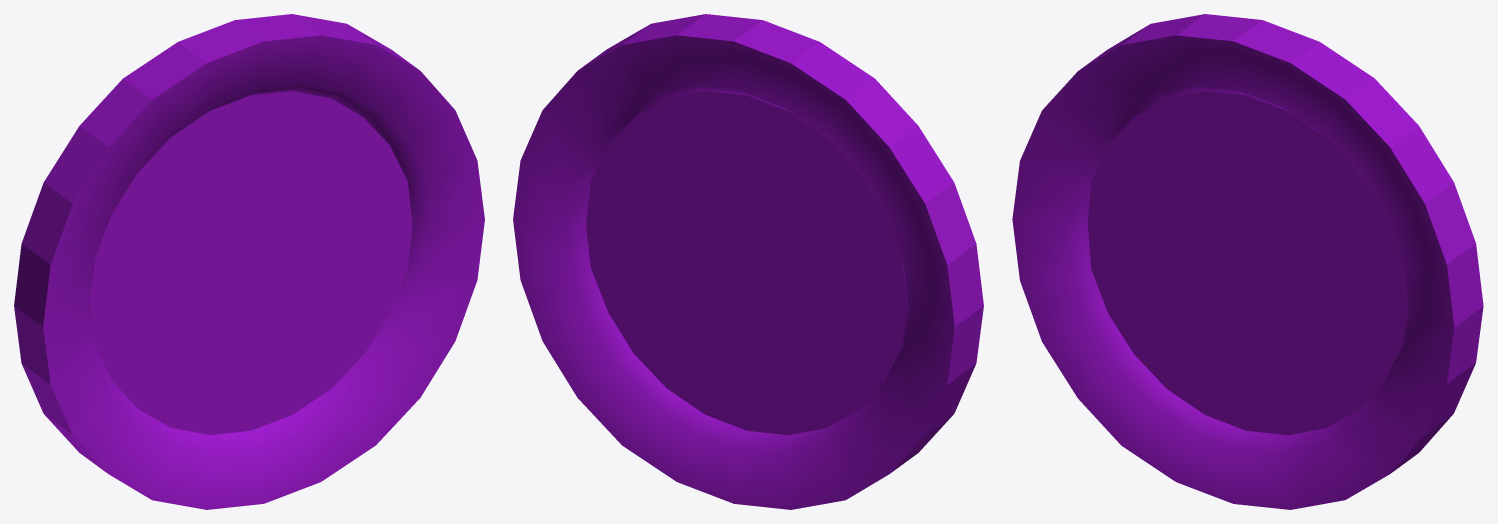
Rendered from Coin.FBX.
3 renders of one model, left to right at view 1: azimuth 30°, elevation 25°; view 2: azimuth 150°, elevation 25°; view 3: azimuth 330°, elevation 25°, orthographic.
Parts seen in each view (by area): view 1: Coin; view 2: Coin; view 3: Coin.
Boxes of the visible parts, left/top/right/bottom form: Coin: left=14, top=14, right=484, bottom=509; Coin: left=513, top=14, right=983, bottom=509; Coin: left=1012, top=14, right=1483, bottom=509.
Size of the model in its own units: 5.69 by 5.69 by 0.6504.
